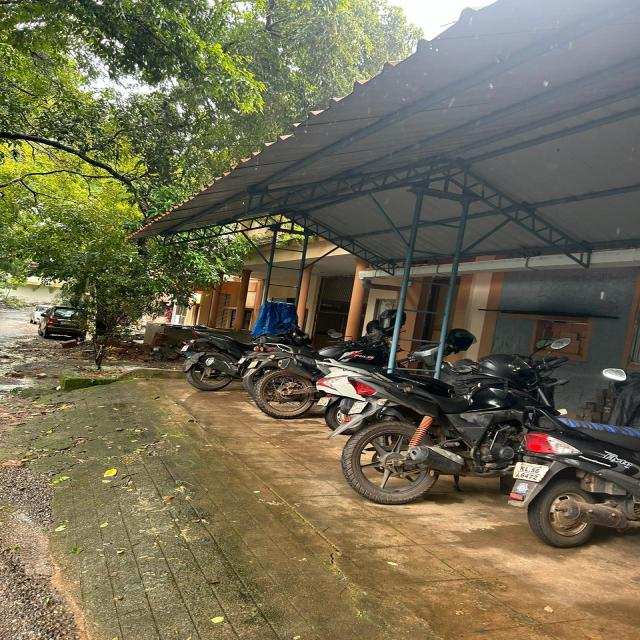motorcycle ahead at: (343, 371, 491, 501), (507, 399, 639, 544)
